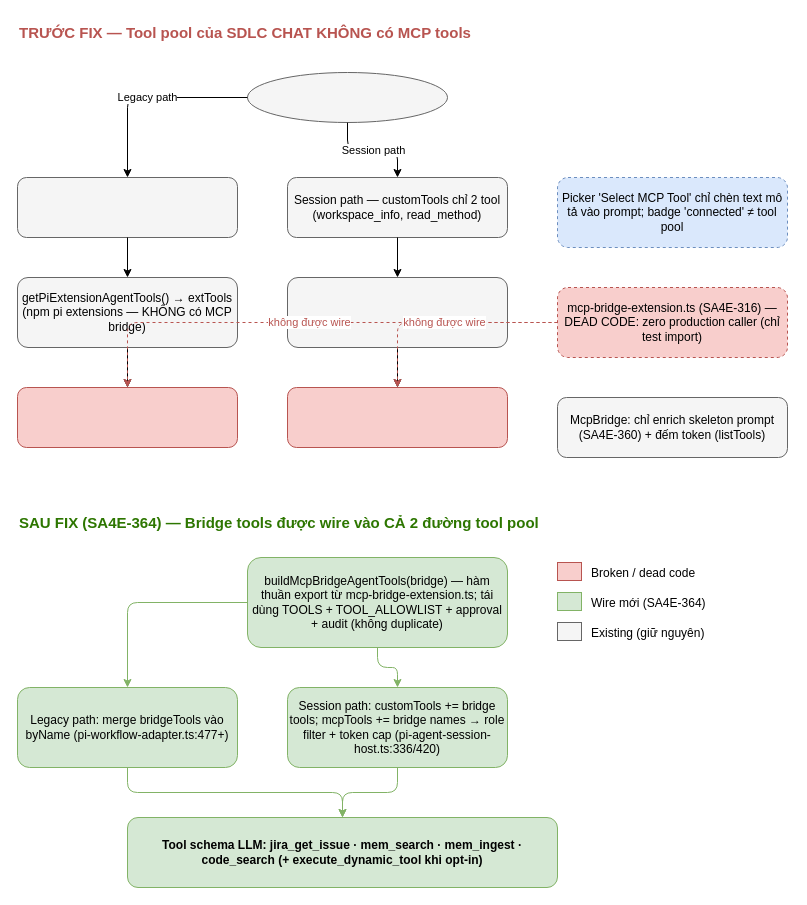
This 807x905 diagram has some shape labels left out. The centre of each missing label's shape, as x and y in pixels:
"additionalExtensionPaths: npm pi extensions; extNames → allowlist" belongs at point 397,312.
"createAgentSession() — Tool schema LLM KHÔNG có MCP tools" belongs at point 397,417.
"createWorkspaceTools() → builtinTools (coding tools)" belongs at point 127,207.
"merge byName → engine.executeTurn — Tool pool KHÔNG có MCP tools" belongs at point 127,417.
"User prompt trong SDLC CHAT" belongs at point 347,97.
